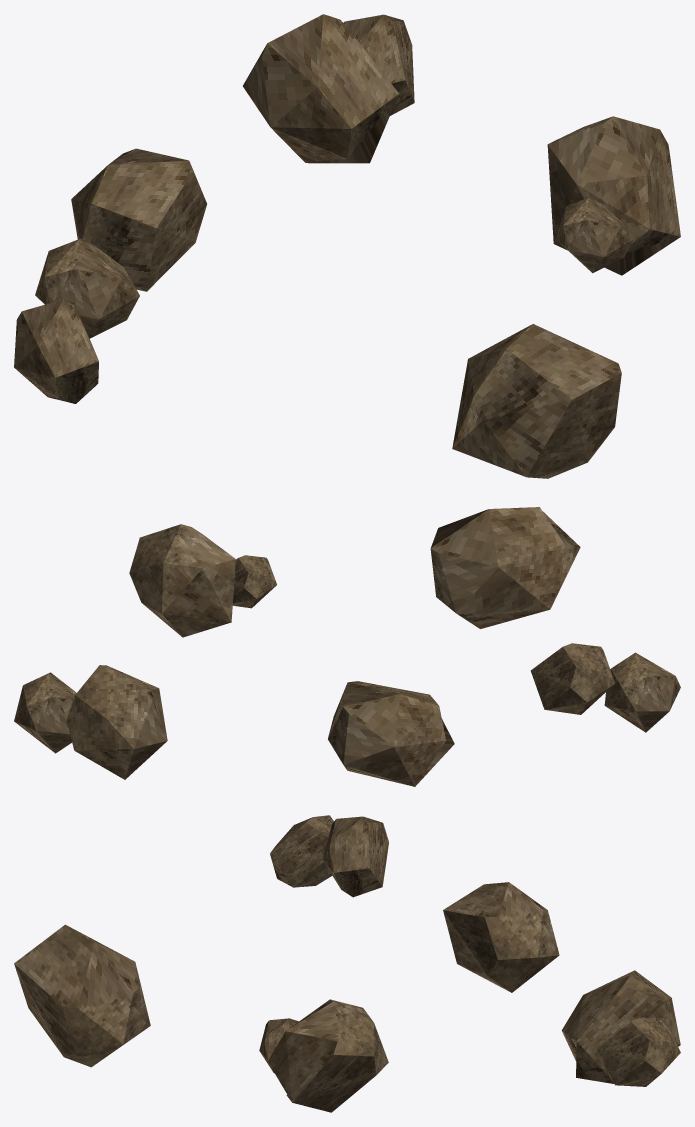
Rendered from Small_Rocks.fbx.
3 views of the same model, one above another, from view 1: azimuth 30°, elevation 25°; view 2: azimuth 150°, elevation 25°; view 3: azimuth 270°, elevation 25° (orthographic). The views are drawn at different scales.
Visible parts, largest first — view 1: Small_Rocks; view 2: Small_Rocks; view 3: Small_Rocks.
Boxes of the visible parts, bbox=[...] form: Small_Rocks: bbox=[14, 14, 680, 478]; Small_Rocks: bbox=[14, 507, 680, 786]; Small_Rocks: bbox=[14, 815, 680, 1112].
Bounding box in the file's own units: 254 × 70.77 × 286.
1 material, 1 textured.
